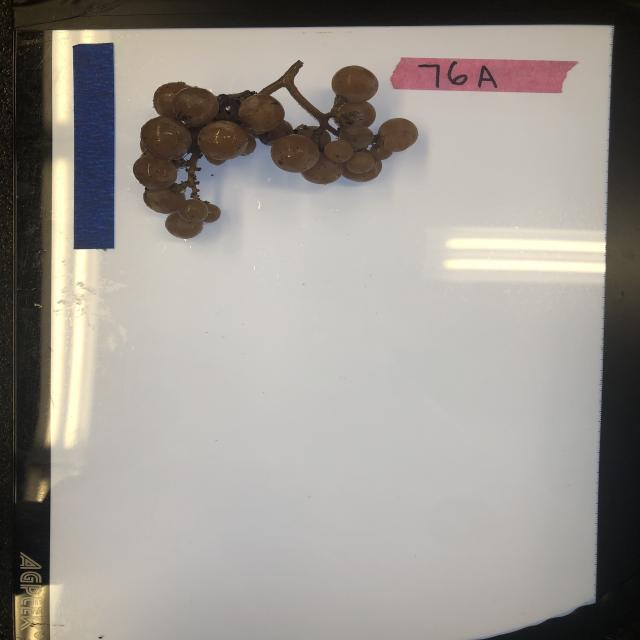grape_cluster: (132, 59, 420, 240)
index: (390, 55, 581, 95)
measure_label: (71, 42, 116, 251)
